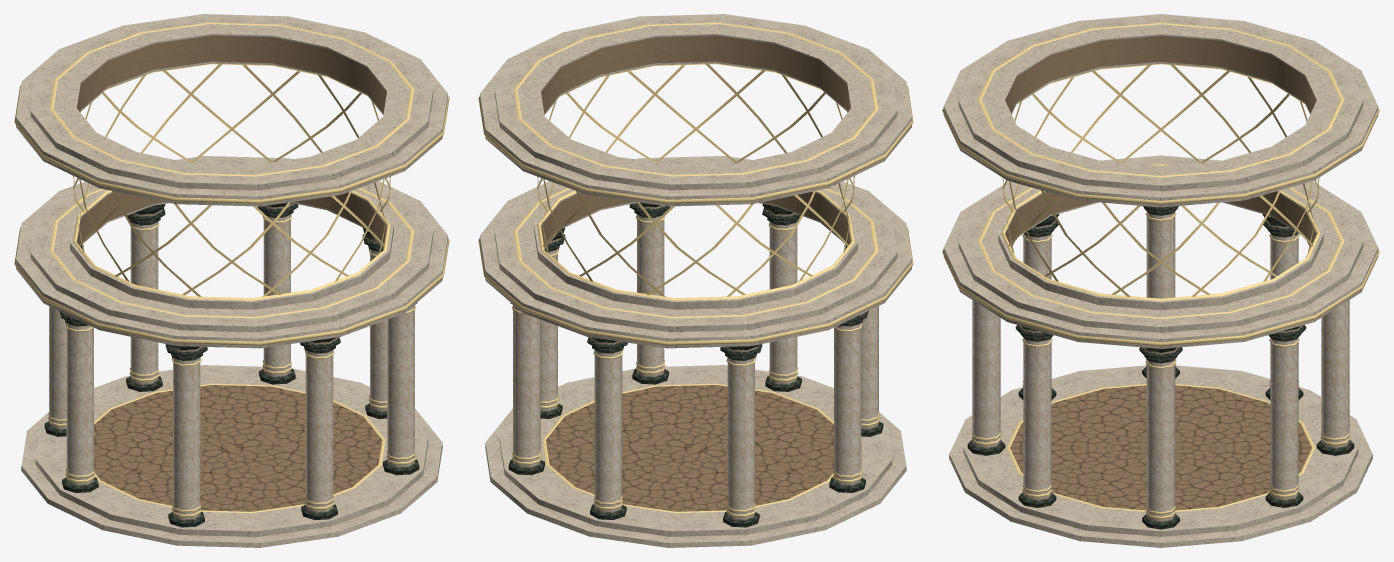
File: Tower_Base_01_Art.glb
The picture shows the model from 3 angles, left to right: view 1: azimuth 30°, elevation 25°; view 2: azimuth 150°, elevation 25°; view 3: azimuth 270°, elevation 25°; orthographic projection.
Visible parts, largest first — view 1: Tower_Base_01_Art; view 2: Tower_Base_01_Art; view 3: Tower_Base_01_Art.
Boxes of the visible parts, box(x1,y1,x2,y2) form: Tower_Base_01_Art: box(14, 14, 449, 547); Tower_Base_01_Art: box(478, 14, 913, 547); Tower_Base_01_Art: box(942, 14, 1379, 547).
Size of the model in its own units: 15.74 by 14.25 by 15.74.
1 material, 1 textured.
